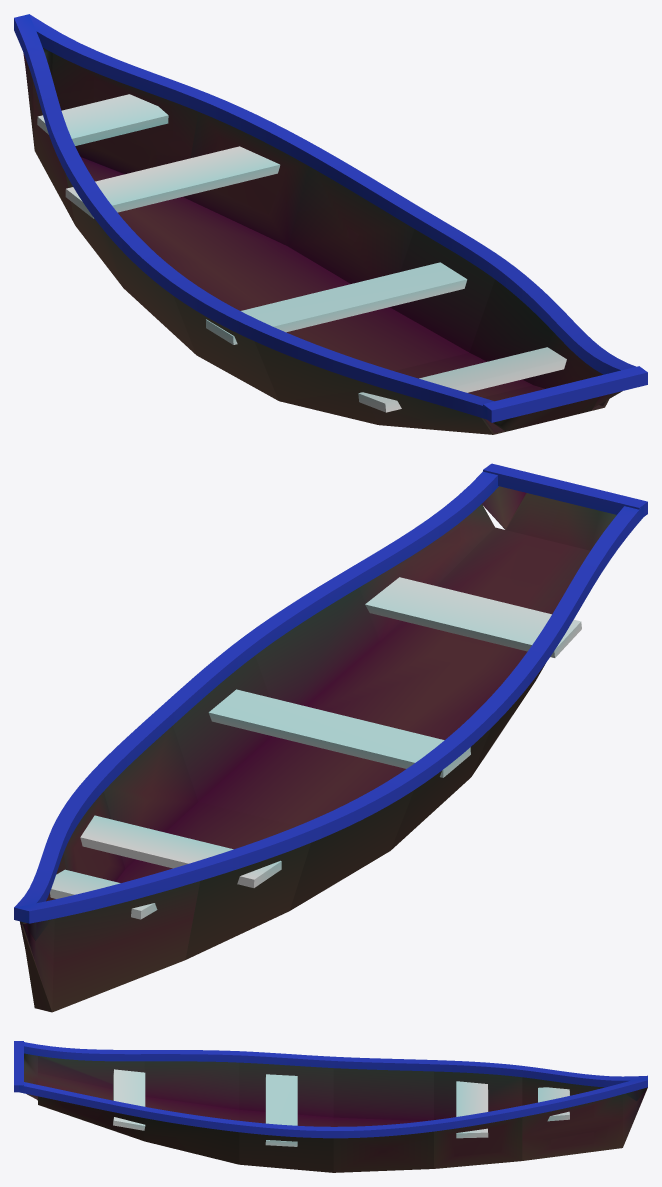
3 renders of one model, top to bottom at view 1: azimuth 30°, elevation 25°; view 2: azimuth 150°, elevation 25°; view 3: azimuth 270°, elevation 25°, orthographic. The views are drawn at different scales.
Visible parts, largest first — view 1: hull_bay, blue_rail, blue_rail.001, middle_seat, forward_seat, stern_seat, bow_seat, stern_lip; view 2: hull_bay, blue_rail.001, blue_rail, middle_seat, stern_seat, forward_seat, stern_lip, bow_seat; view 3: hull_bay, blue_rail, blue_rail.001, middle_seat, stern_seat, forward_seat, bow_seat, stern_lip.
Part boxes in pixels (left/top/right/bottom): hull_bay: left=23, top=47, right=622, bottom=434; blue_rail: left=29, top=14, right=635, bottom=374; blue_rail.001: left=14, top=14, right=493, bottom=419; middle_seat: left=206, top=262, right=467, bottom=344; forward_seat: left=65, top=146, right=280, bottom=218; stern_seat: left=358, top=347, right=566, bottom=412; bow_seat: left=37, top=94, right=168, bottom=145; stern_lip: left=483, top=366, right=647, bottom=422; hull_bay: left=20, top=486, right=616, bottom=1012; blue_rail.001: left=15, top=505, right=643, bottom=923; blue_rail: left=14, top=471, right=498, bottom=923; middle_seat: left=208, top=689, right=470, bottom=777; stern_seat: left=365, top=577, right=581, bottom=657; forward_seat: left=80, top=815, right=281, bottom=887; stern_lip: left=483, top=463, right=647, bottom=516; bow_seat: left=50, top=869, right=157, bottom=919; hull_bay: left=24, top=1053, right=647, bottom=1172; blue_rail: left=19, top=1080, right=647, bottom=1138; blue_rail.001: left=24, top=1042, right=647, bottom=1087; middle_seat: left=265, top=1074, right=297, bottom=1146; stern_seat: left=113, top=1069, right=145, bottom=1130; forward_seat: left=456, top=1081, right=488, bottom=1138; bow_seat: left=538, top=1087, right=569, bottom=1121; stern_lip: left=14, top=1041, right=23, bottom=1092.
Size of the model in its own units: 1.42 by 0.7229 by 5.04.
